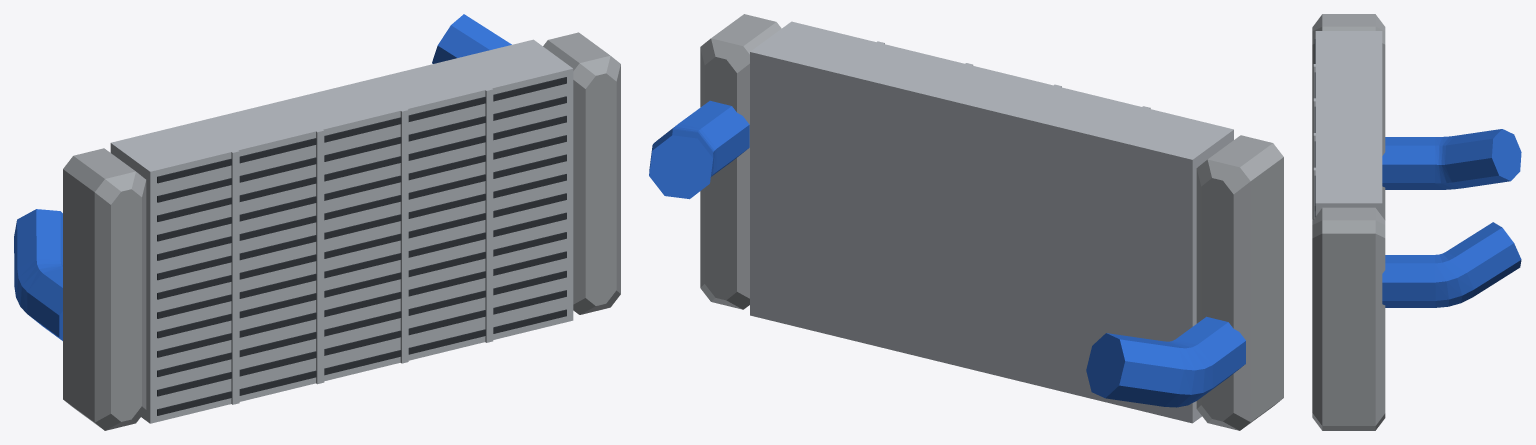
Rendered from ridgeback_4x4.glb.
3 renders of one model, left to right at view 1: azimuth 30°, elevation 25°; view 2: azimuth 150°, elevation 25°; view 3: azimuth 270°, elevation 25°, orthographic. The views are drawn at different scales.
Visible parts, largest first — view 1: model; view 2: model; view 3: model.
Part boxes in pixels (x1,y1,x2,y2): model: (14, 14, 620, 430); model: (649, 14, 1283, 430); model: (1312, 14, 1521, 430).
Bounding box in the file's own units: 0.612 × 0.28 × 0.2519.
Materials: 2 (1 with a texture image).
